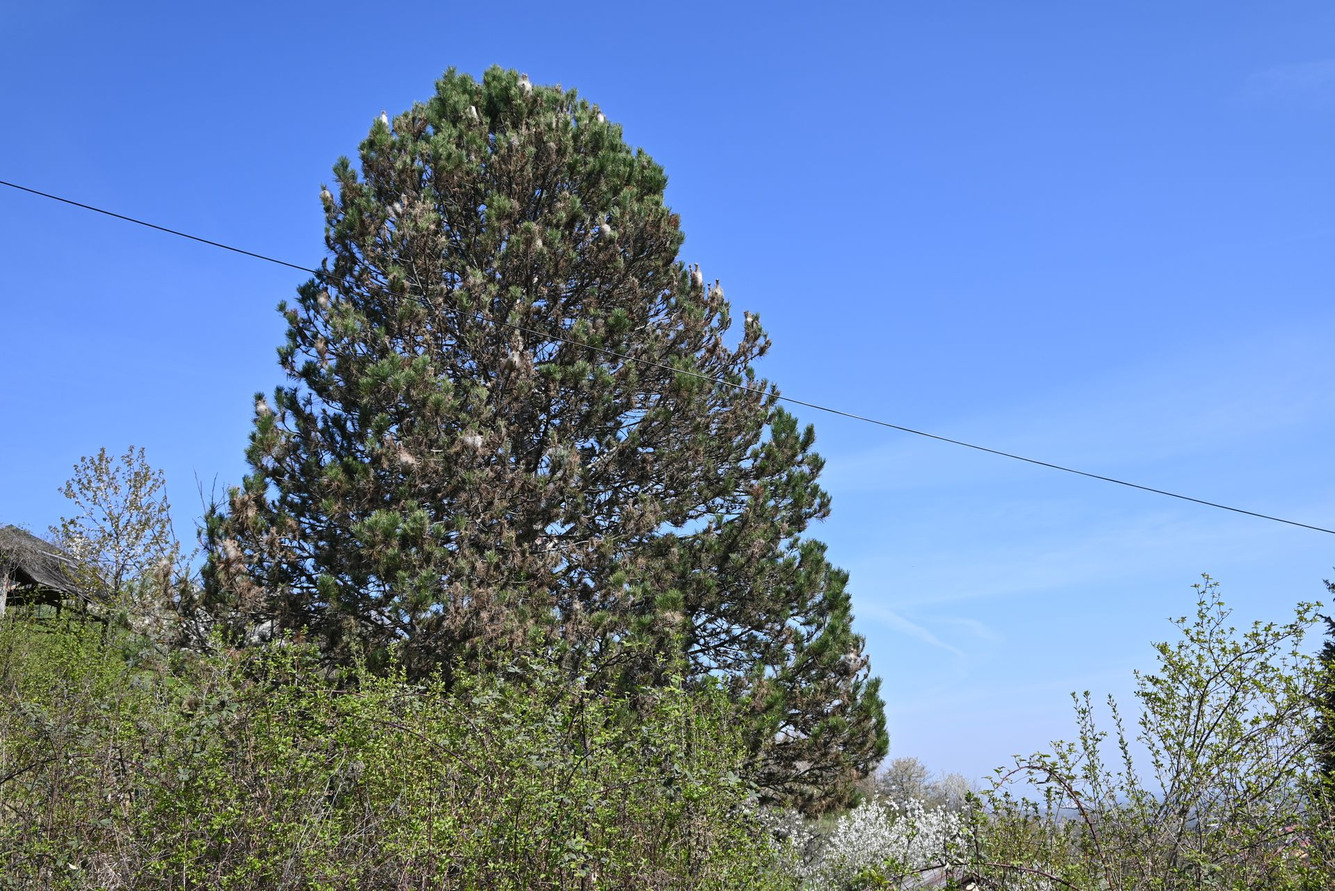thaumatopoea pityocampa jajno gnijezdo: (389, 200, 410, 222), (461, 434, 485, 450), (400, 452, 418, 471), (515, 78, 532, 95), (222, 545, 239, 562), (316, 294, 329, 312), (570, 597, 584, 613), (510, 353, 523, 368), (535, 236, 545, 254), (380, 113, 389, 132), (696, 269, 705, 288), (604, 223, 613, 242), (469, 102, 479, 119), (712, 285, 724, 299), (257, 401, 267, 416), (323, 190, 333, 203), (598, 111, 607, 125)
